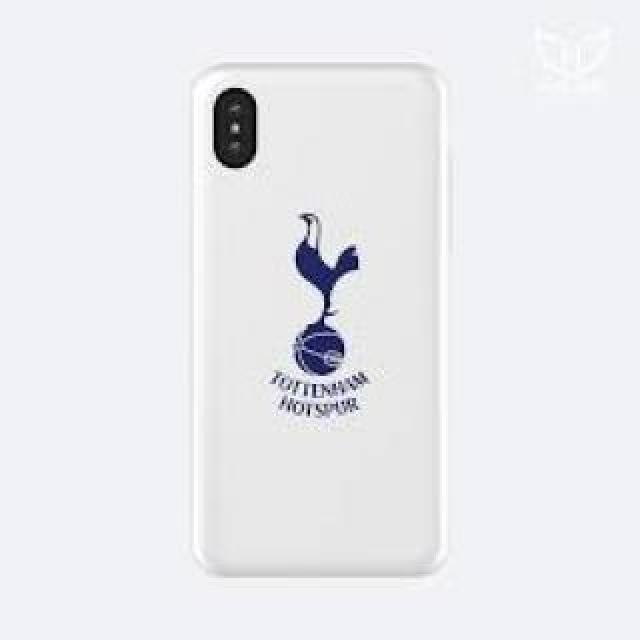smart phone: (175, 36, 480, 592)
